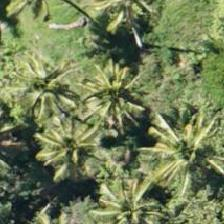coconut_tree: (37, 88, 127, 178), (80, 48, 170, 138), (129, 87, 219, 177), (0, 49, 89, 139), (81, 170, 171, 223), (77, 0, 167, 49)
